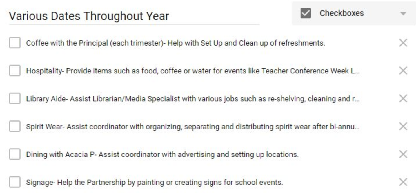checkbox: (7, 34, 23, 51), (7, 119, 22, 135), (7, 174, 22, 189), (7, 91, 23, 105), (7, 147, 22, 161), (8, 63, 22, 77)
